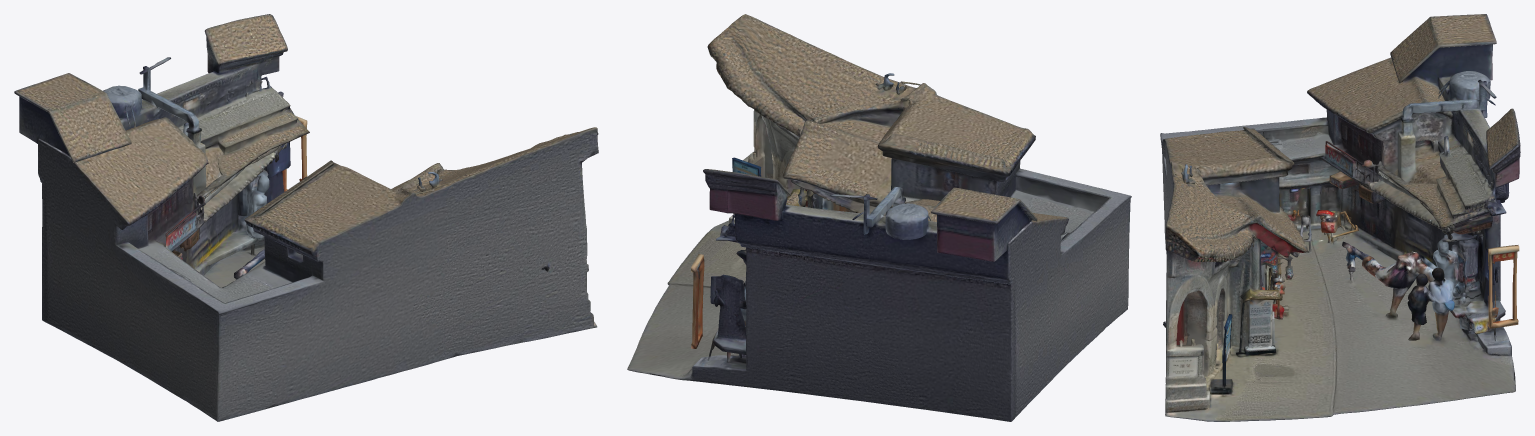
Rendered from detail.glb.
The picture shows the model from 3 angles, left to right: view 1: azimuth 30°, elevation 25°; view 2: azimuth 150°, elevation 25°; view 3: azimuth 270°, elevation 25°; orthographic projection. The views are drawn at different scales.
Visible parts, largest first — view 1: yandai/tripo_node_27639af2-5000-43cd-b74b-3836777b2450; view 2: yandai/tripo_node_27639af2-5000-43cd-b74b-3836777b2450; view 3: yandai/tripo_node_27639af2-5000-43cd-b74b-3836777b2450.
Boxes of the visible parts, <box> form: yandai/tripo_node_27639af2-5000-43cd-b74b-3836777b2450: <box>14,14,598,421</box>; yandai/tripo_node_27639af2-5000-43cd-b74b-3836777b2450: <box>627,14,1131,421</box>; yandai/tripo_node_27639af2-5000-43cd-b74b-3836777b2450: <box>1160,14,1520,421</box>.
Size of the model in its own units: 0.95 by 0.4667 by 0.7079.
Materials: 1 (1 with a texture image).
